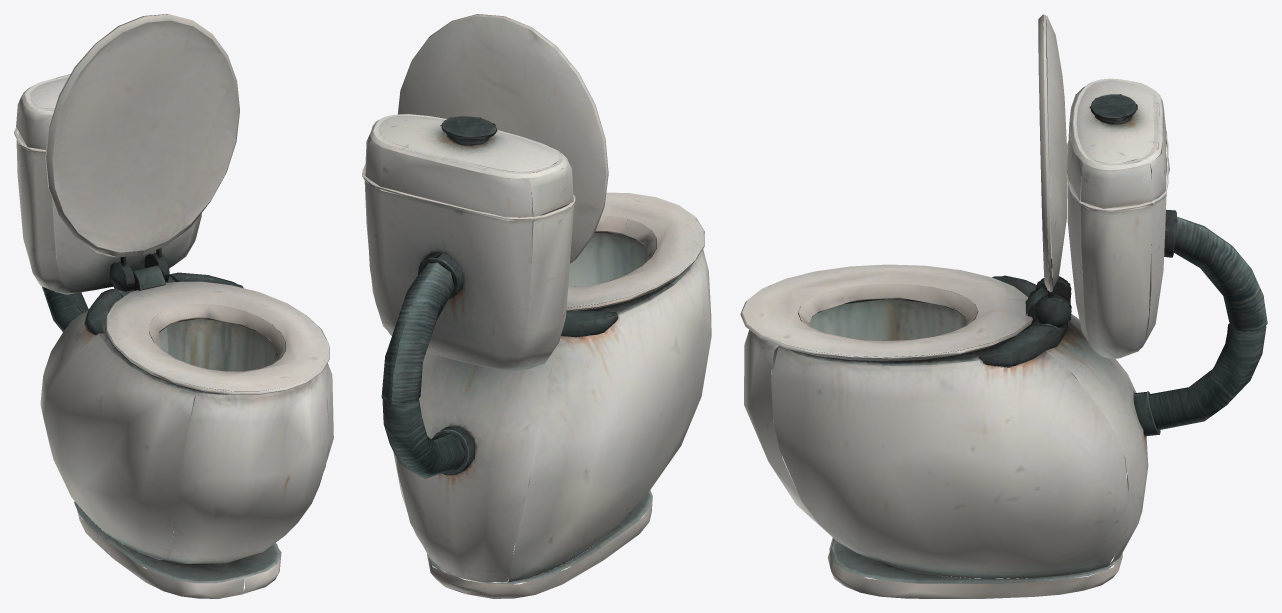
Rendered from toilet.glb.
3 renders of one model, left to right at view 1: azimuth 30°, elevation 25°; view 2: azimuth 150°, elevation 25°; view 3: azimuth 270°, elevation 25°, orthographic. The views are drawn at different scales.
Parts seen in each view (by area): view 1: Toilet; view 2: Toilet; view 3: Toilet.
Boxes of the visible parts, x1,y1,x2,y2 form: Toilet: (14, 14, 333, 598); Toilet: (362, 14, 711, 598); Toilet: (740, 14, 1267, 598).
Size of the model in its own units: 0.4413 by 1 by 0.8802.
1 material, 1 textured.
